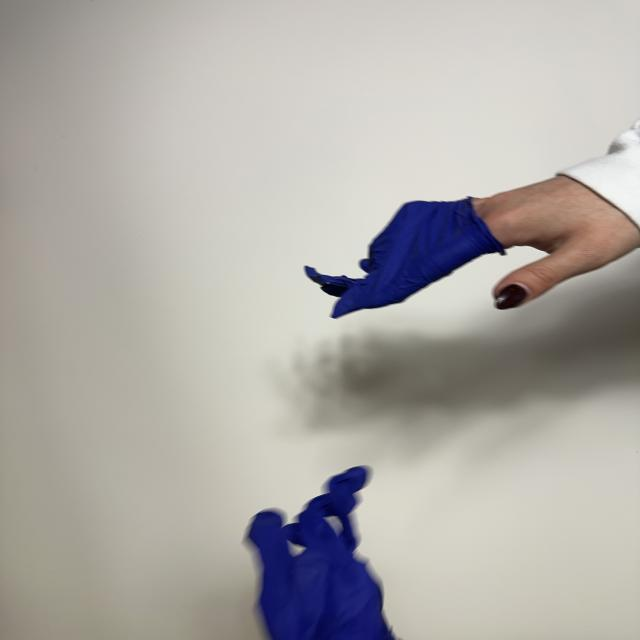glove_partial: (306, 177, 640, 318)
